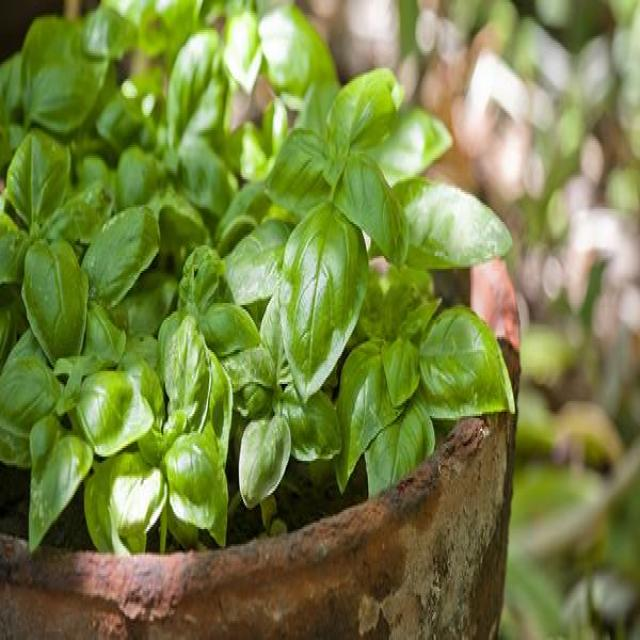Sweet Basil: (0, 0, 518, 539)
